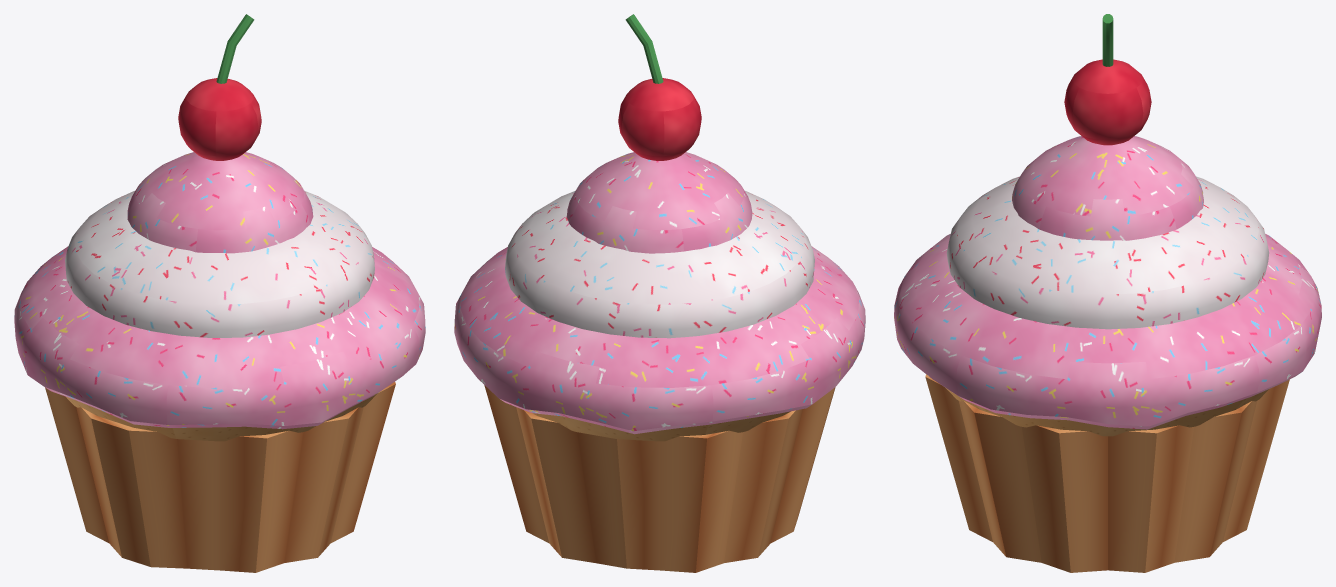
Rendered from GIN_Cupcake.fbx.
3 views of the same model, side by side, from view 1: azimuth 30°, elevation 25°; view 2: azimuth 150°, elevation 25°; view 3: azimuth 270°, elevation 25° (orthographic). The views are drawn at different scales.
Parts seen in each view (by area): view 1: GIN_Cupcake; view 2: GIN_Cupcake; view 3: GIN_Cupcake.
Part boxes in pixels (<box>): GIN_Cupcake: <box>14,14,425,572</box>; GIN_Cupcake: <box>454,14,865,572</box>; GIN_Cupcake: <box>894,14,1321,572</box>.
Size of the model in its own units: 1.18 by 1.56 by 1.18.
